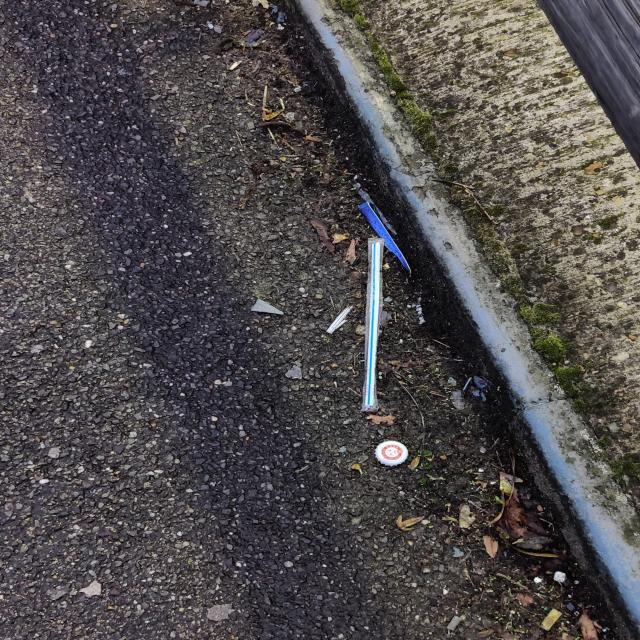litter: (361, 238, 384, 412), (358, 201, 411, 274), (358, 190, 398, 235), (374, 440, 409, 466), (553, 571, 565, 582), (533, 576, 542, 583)
